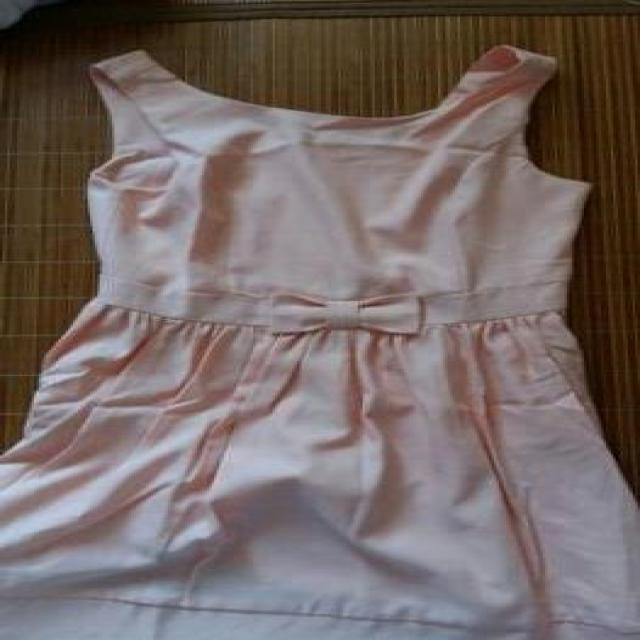short-sleeve-dress: (46, 29, 640, 627)
